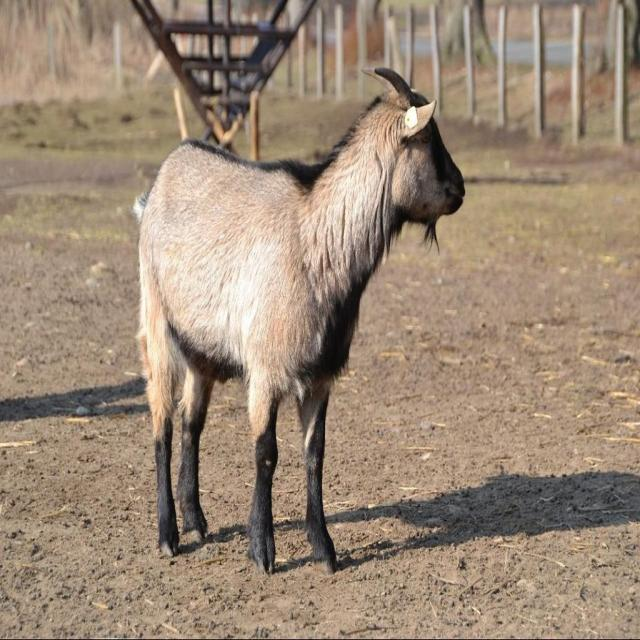Goat: (130, 68, 466, 574)
